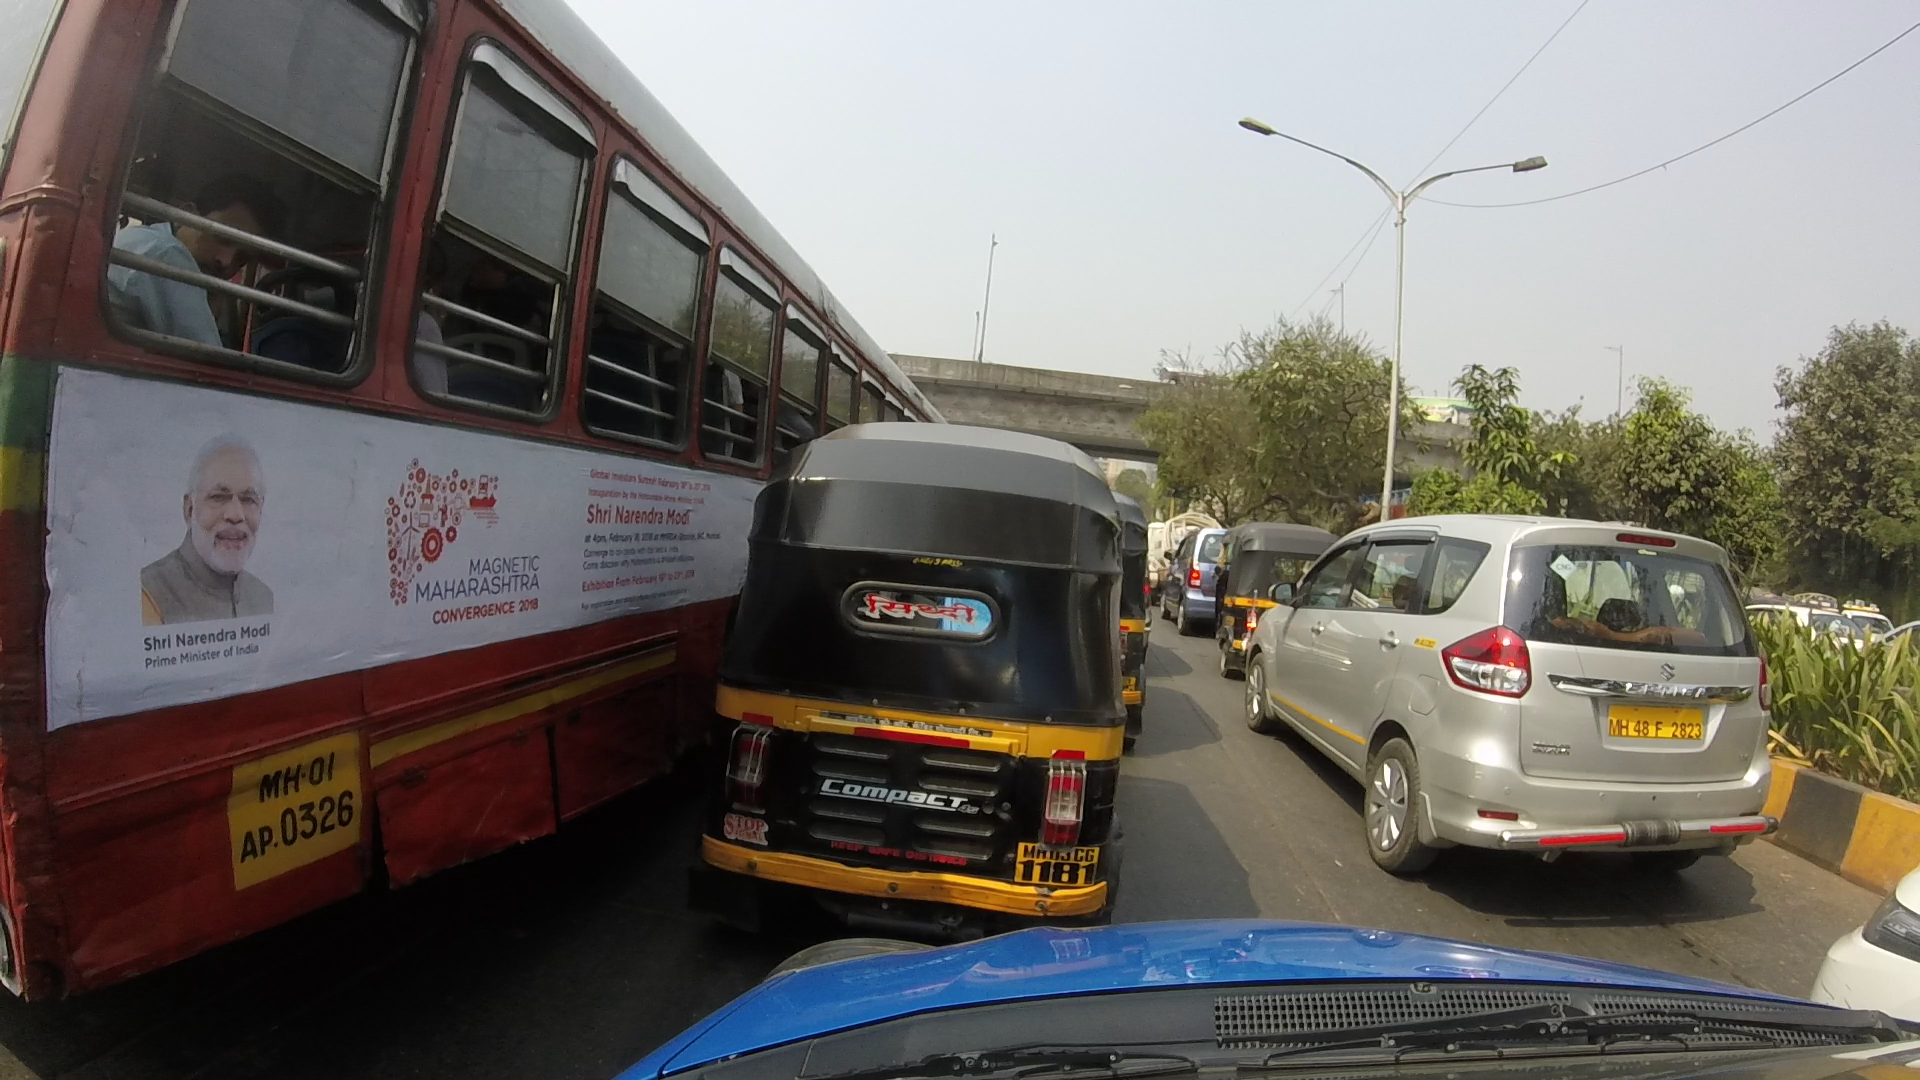bus: (18, 4, 943, 930)
car: (1249, 501, 1760, 862), (1175, 522, 1225, 630)
rickshaw: (731, 415, 1096, 919), (1211, 506, 1319, 659)
